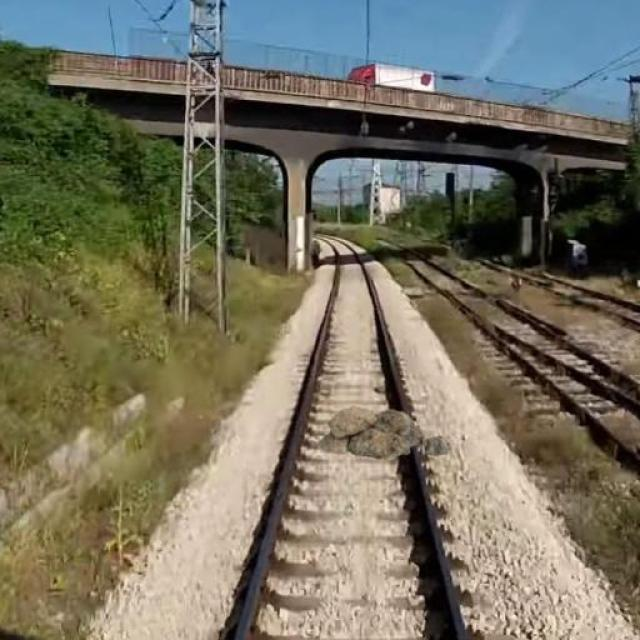Stone: (320, 401, 450, 462)
